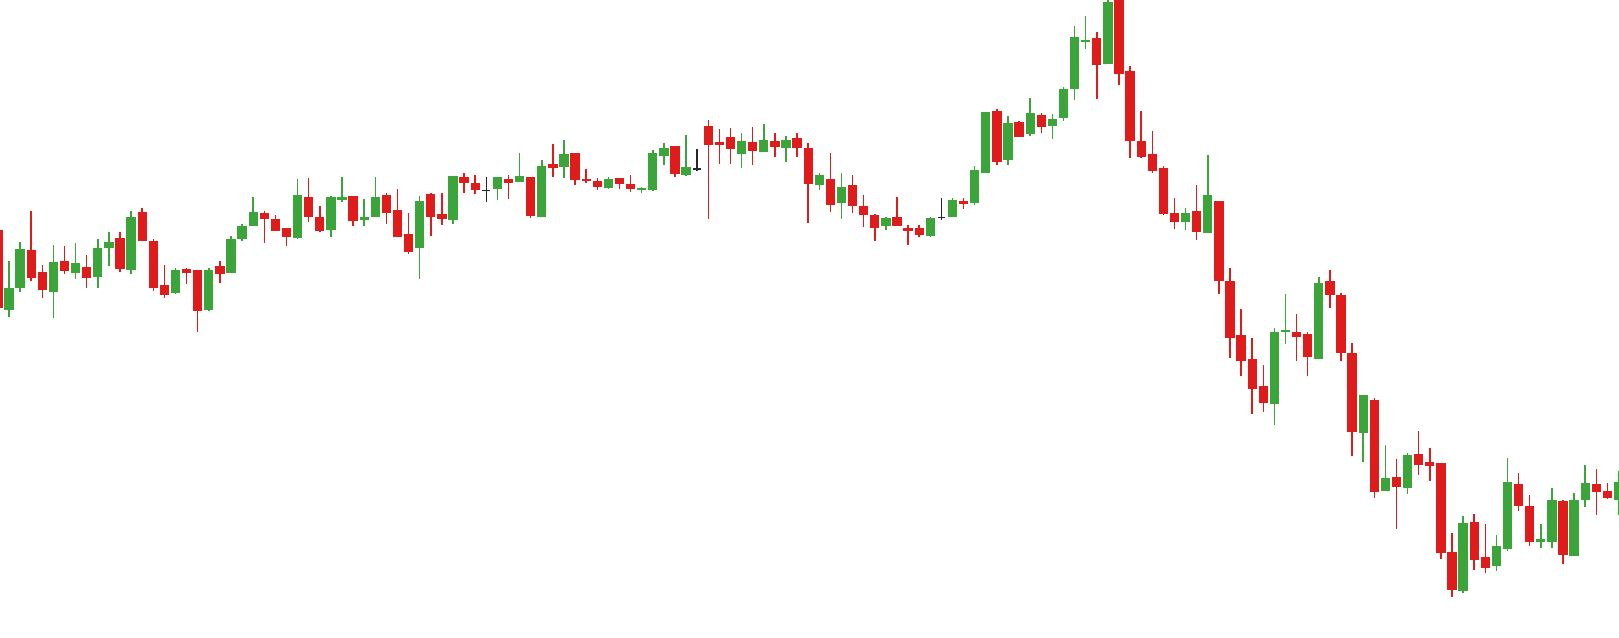buy: (314, 194, 425, 274)
sell: (1281, 268, 1335, 345)
